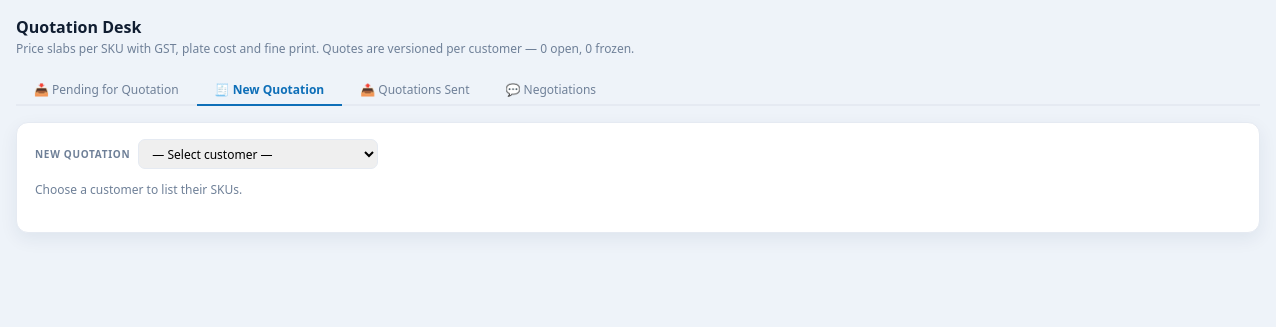
Scenario: QT1 / QT2 — the desk › shows what the plant pushed in another login when the tab is opened again
The width and height of the screenshot is (1276, 327).
Expected: the text "Quotation Desk" is shown, x1=16 y1=16 x2=141 y2=38
Click the text with class "step-tab" showing "📥 Pending for Quotation": [106, 90] box x1=34 y1=81 x2=179 y2=98
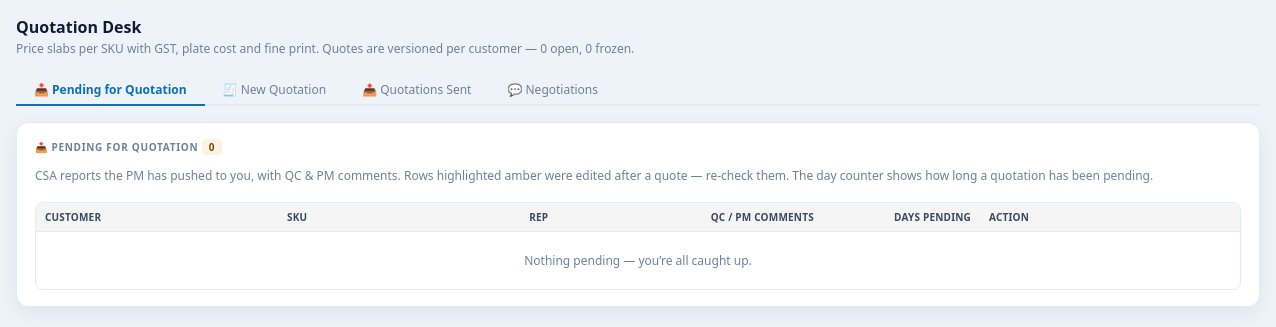
Now the text "Nothing pending — you’re all caught up." is shown, box x1=36 y1=232 x2=1240 y2=289
Click the text with class "step-tab" showing "🧾 New Quotation": [274, 90] box x1=223 y1=81 x2=326 y2=98
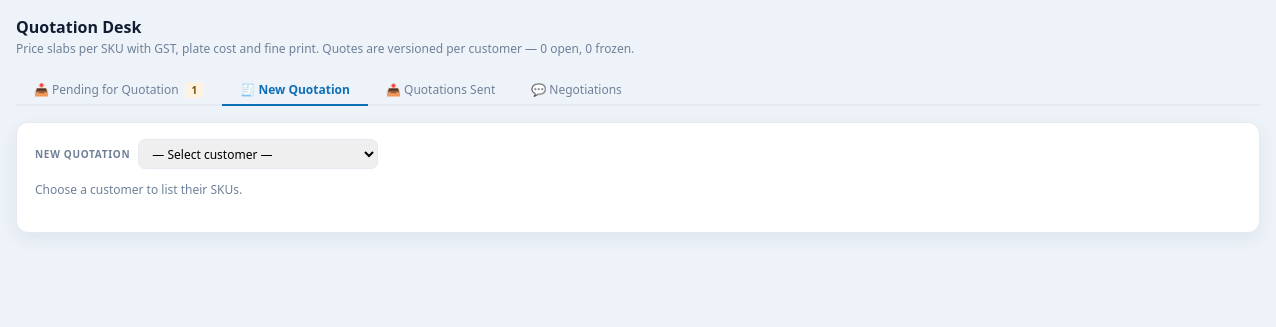
Click the element with class "step-tab" showing "📥 Pending for Quotation 1": [119, 90] box x1=34 y1=81 x2=204 y2=98
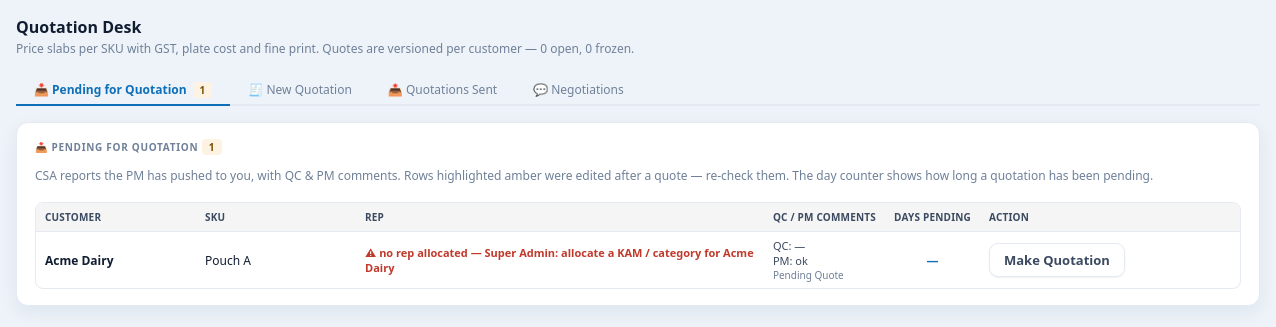
Now the button with aria-label "Make quotation for Acme Dairy" is shown, box x1=989 y1=243 x2=1125 y2=277
